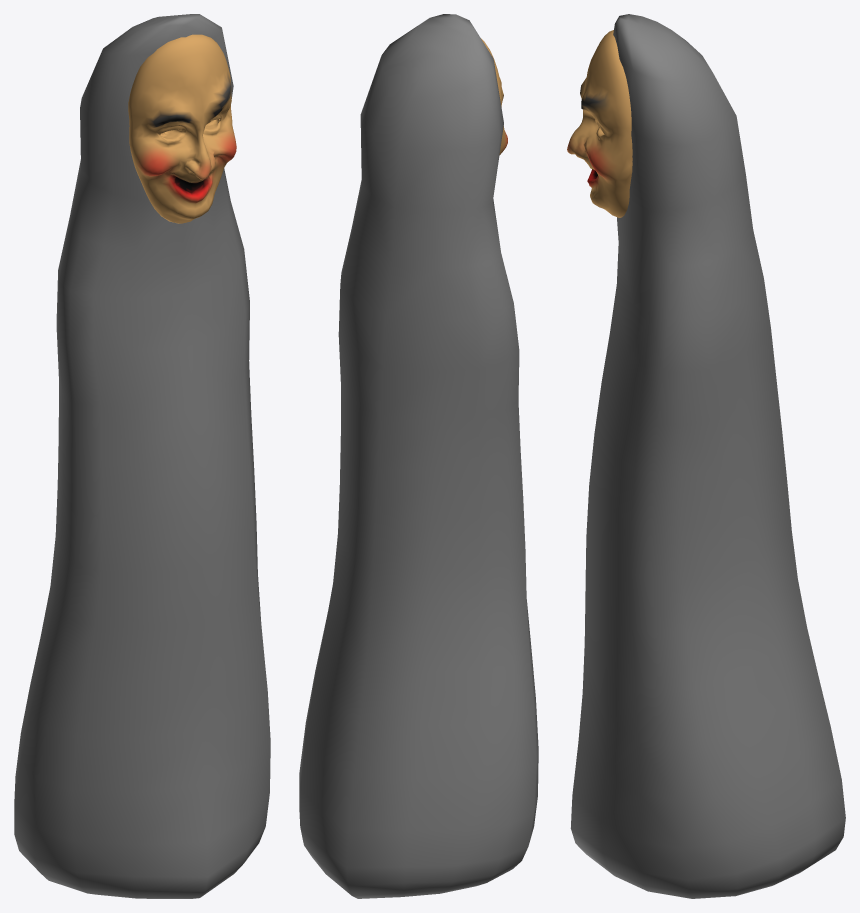
Rendered from ThirdcharLow.fbx.
3 views of the same model, side by side, from view 1: azimuth 30°, elevation 25°; view 2: azimuth 150°, elevation 25°; view 3: azimuth 270°, elevation 25° (orthographic). The views are drawn at different scales.
Parts seen in each view (by area): view 1: Skin_ZSphere_2, Recovered_Tool1; view 2: Skin_ZSphere_2; view 3: Skin_ZSphere_2, Recovered_Tool1.
Part boxes in pixels (x1,y1,x2,y2): Skin_ZSphere_2: [14, 14, 270, 898]; Recovered_Tool1: [128, 34, 236, 223]; Skin_ZSphere_2: [299, 14, 538, 898]; Skin_ZSphere_2: [570, 14, 845, 898]; Recovered_Tool1: [567, 30, 632, 217].
Size of the model in its own units: 1.6 by 5.79 by 1.73.
